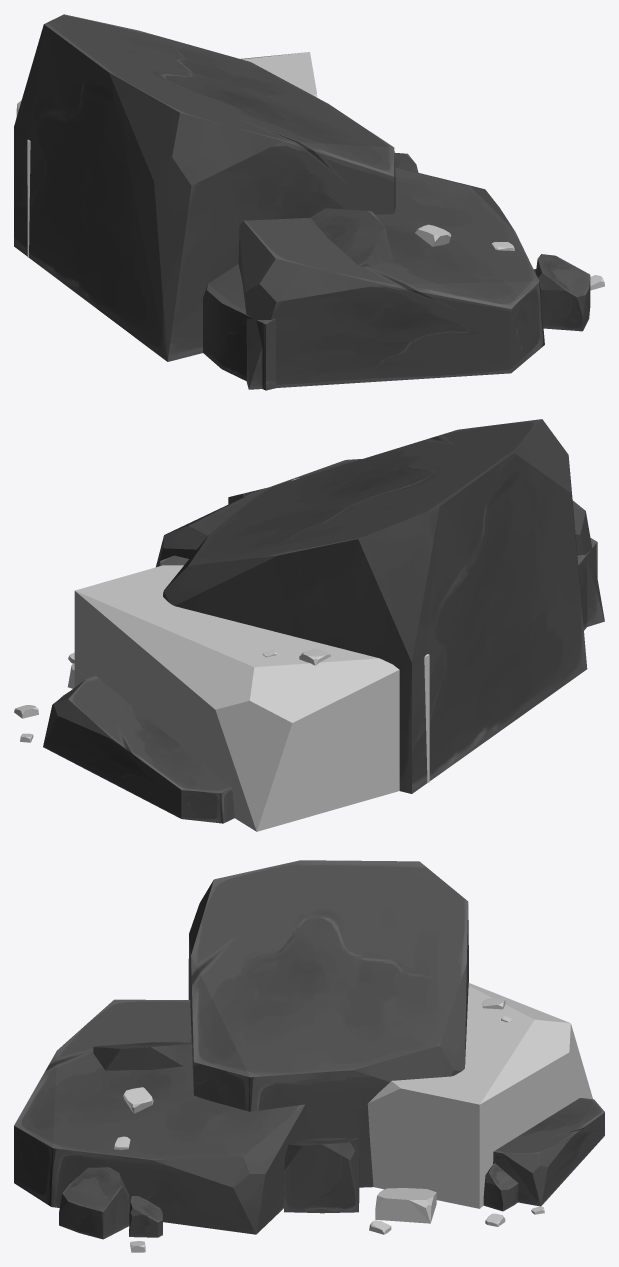
File: SM_ModularKit_Rubble.fbx
The picture shows the model from 3 angles, top to bottom: view 1: azimuth 30°, elevation 25°; view 2: azimuth 150°, elevation 25°; view 3: azimuth 270°, elevation 25°; orthographic projection. The views are drawn at different scales.
Parts seen in each view (by area): view 1: Rubble; view 2: Rubble; view 3: Rubble.
Part boxes in pixels (x1=…): Rubble: x1=14, y1=14, x2=604, y2=390; Rubble: x1=14, y1=419, x2=604, y2=831; Rubble: x1=14, y1=860, x2=604, y2=1252.
Size of the model in its own units: 153 by 87.61 by 216.
